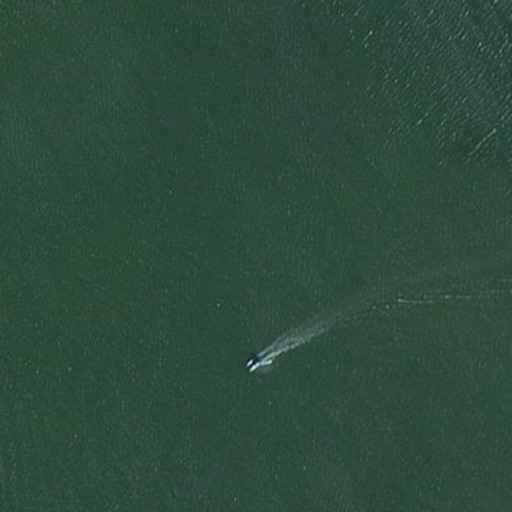ship: (244, 351, 269, 374)
